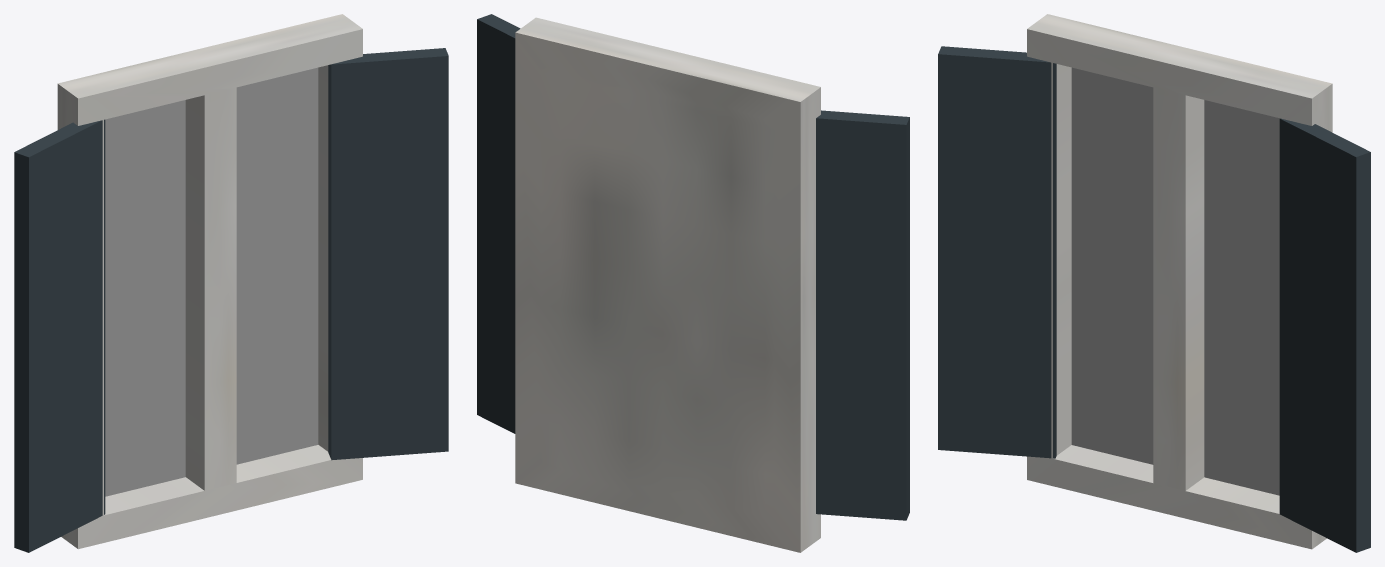
The model's file is obj_window_g1.fbx.
The picture shows the model from 3 angles, left to right: view 1: azimuth 30°, elevation 25°; view 2: azimuth 150°, elevation 25°; view 3: azimuth 330°, elevation 25°; orthographic projection.
Visible parts, largest first — view 1: obj_window_g1; view 2: obj_window_g1; view 3: obj_window_g1.
Boxes of the visible parts, x1,y1,x2,y2 form: obj_window_g1: (14, 14, 448, 552); obj_window_g1: (477, 14, 909, 552); obj_window_g1: (938, 14, 1370, 552).
Size of the model in its own units: 1.51 by 1.51 by 0.251.
Materials: 2 (1 with a texture image).
